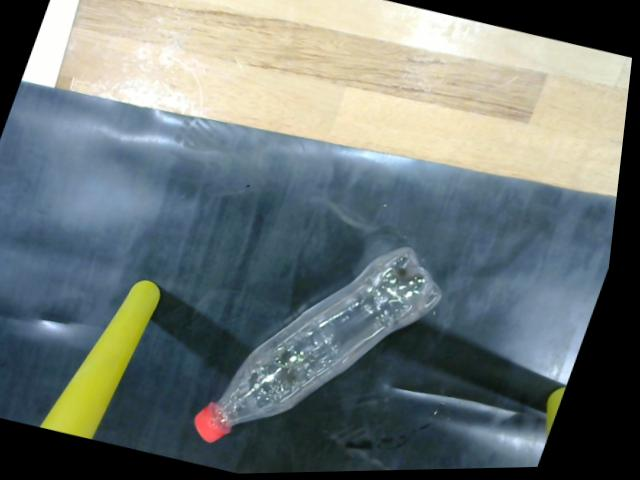bottle: (200, 242, 456, 452)
